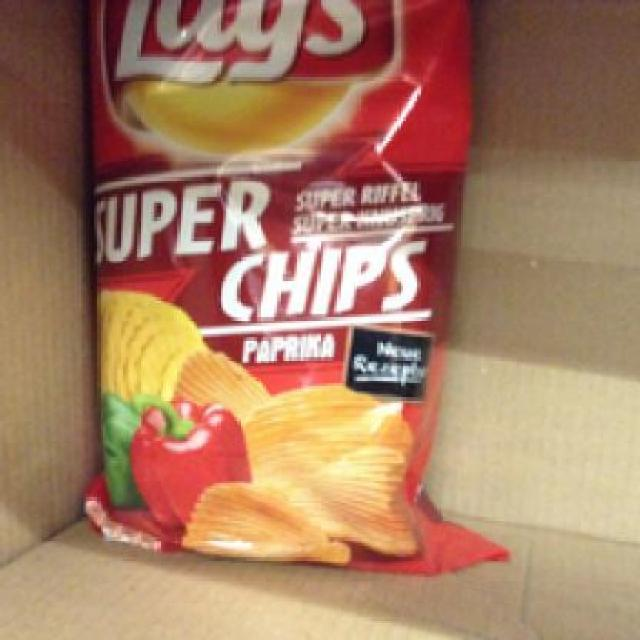Chips: (83, 0, 501, 575)
